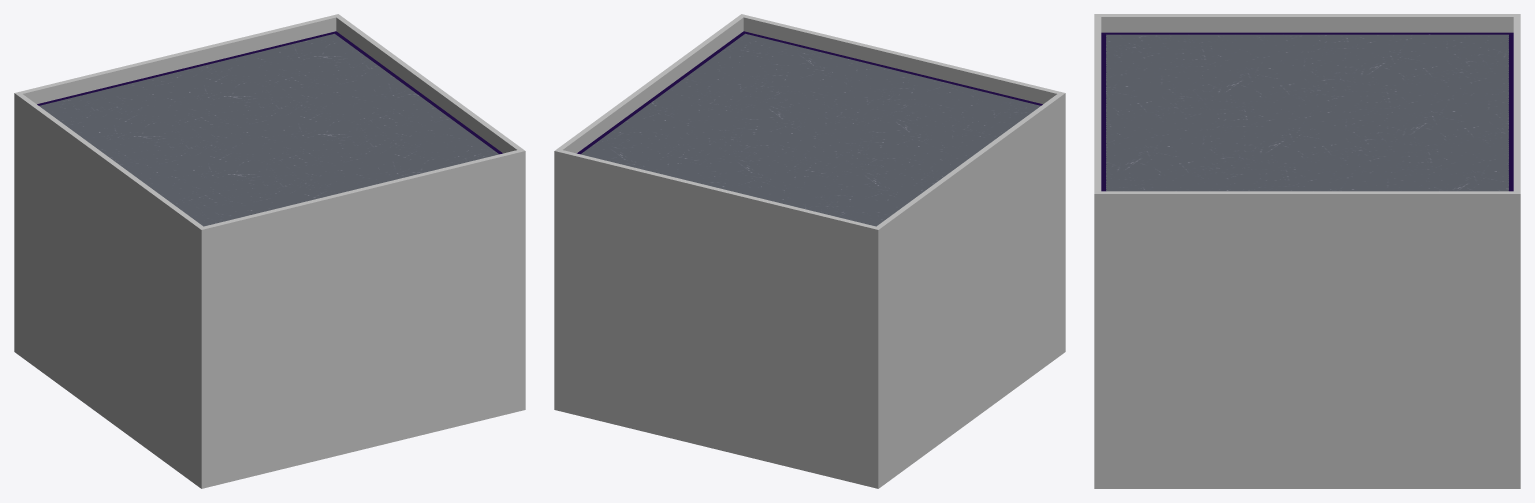
File: Duel_A1_Stage_TwoPhases.fbx
The picture shows the model from 3 angles, left to right: view 1: azimuth 30°, elevation 25°; view 2: azimuth 150°, elevation 25°; view 3: azimuth 270°, elevation 25°; orthographic projection. The views are drawn at different scales.
Visible parts, largest first — view 1: Platform_Cube__1_.015, Platform_Cube__1_.016, Platform_Cube__1_.018; view 2: Platform_Cube__1_.015, Platform_Cube__1_.016, Platform_Cube__1_.018; view 3: Platform_Cube__1_.015, Platform_Cube__1_.016, Platform_Cube__1_.018.
Part boxes in pixels (x1=…): Platform_Cube__1_.015: x1=14, y1=33, x2=525, y2=488; Platform_Cube__1_.016: x1=14, y1=14, x2=525, y2=243; Platform_Cube__1_.018: x1=23, y1=17, x2=516, y2=154; Platform_Cube__1_.015: x1=554, y1=33, x2=1065, y2=488; Platform_Cube__1_.016: x1=554, y1=14, x2=1065, y2=243; Platform_Cube__1_.018: x1=563, y1=17, x2=1056, y2=154; Platform_Cube__1_.015: x1=1094, y1=34, x2=1520, y2=488; Platform_Cube__1_.016: x1=1094, y1=14, x2=1520, y2=209; Platform_Cube__1_.018: x1=1101, y1=16, x2=1513, y2=191.
Bounding box in the file's own units: 3599 × 2749 × 3599.
